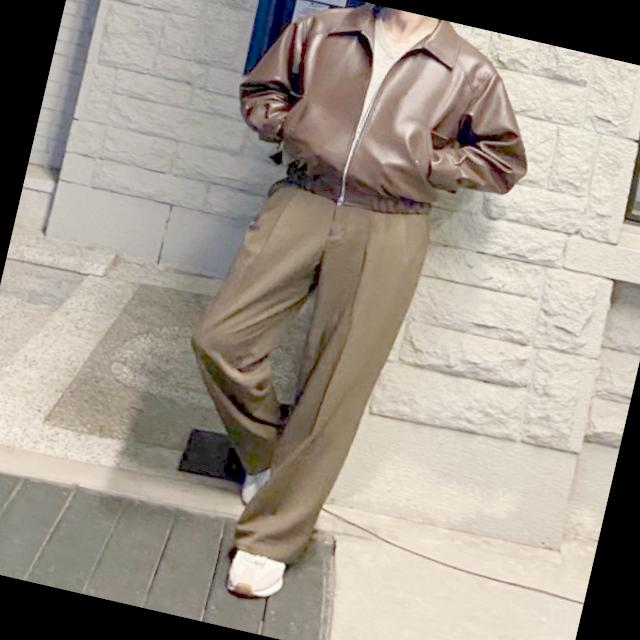jacket: (216, 0, 552, 241)
slacks: (143, 169, 438, 592)
